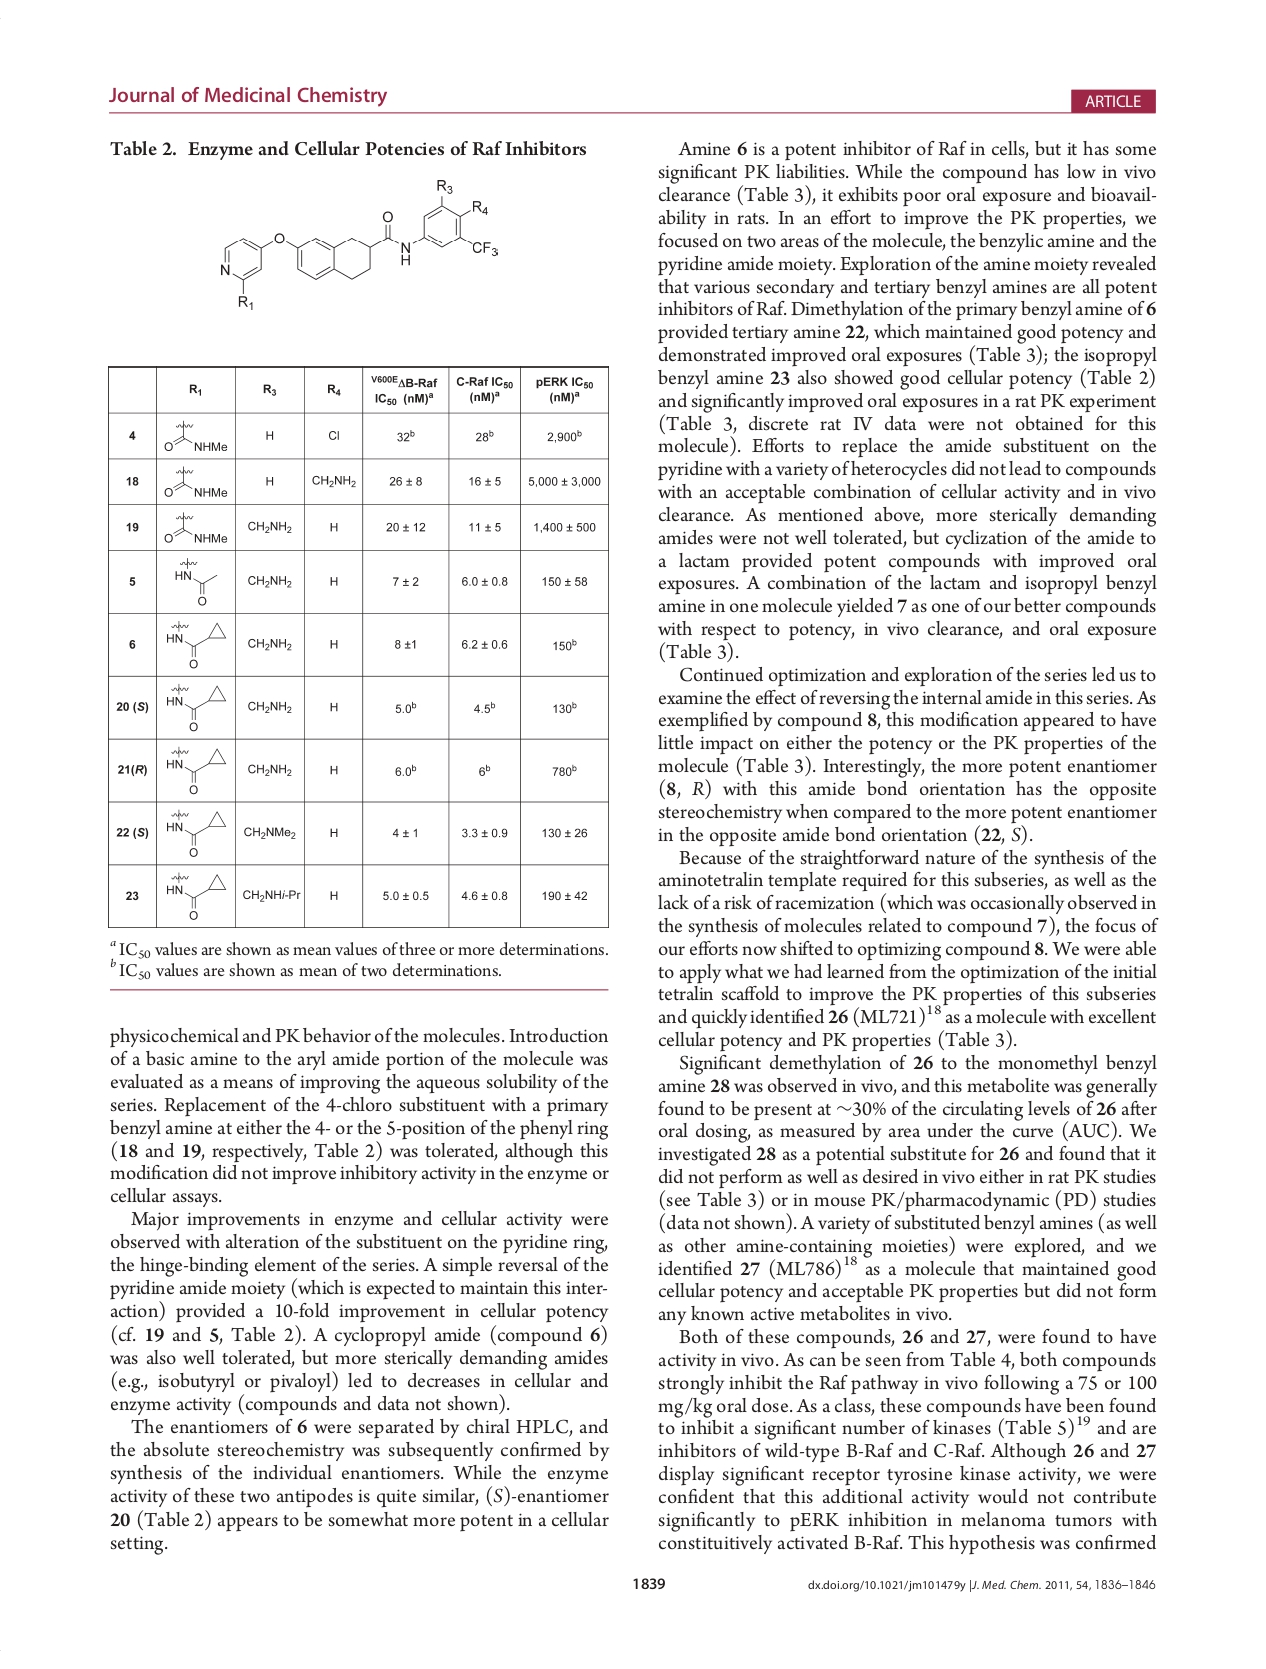exist_molecular: (214, 176, 505, 310), (164, 806, 227, 860), (162, 870, 227, 922), (164, 617, 227, 669), (165, 680, 229, 731), (165, 745, 226, 797), (168, 555, 219, 606), (160, 418, 230, 455), (162, 509, 227, 545), (161, 464, 230, 497)
